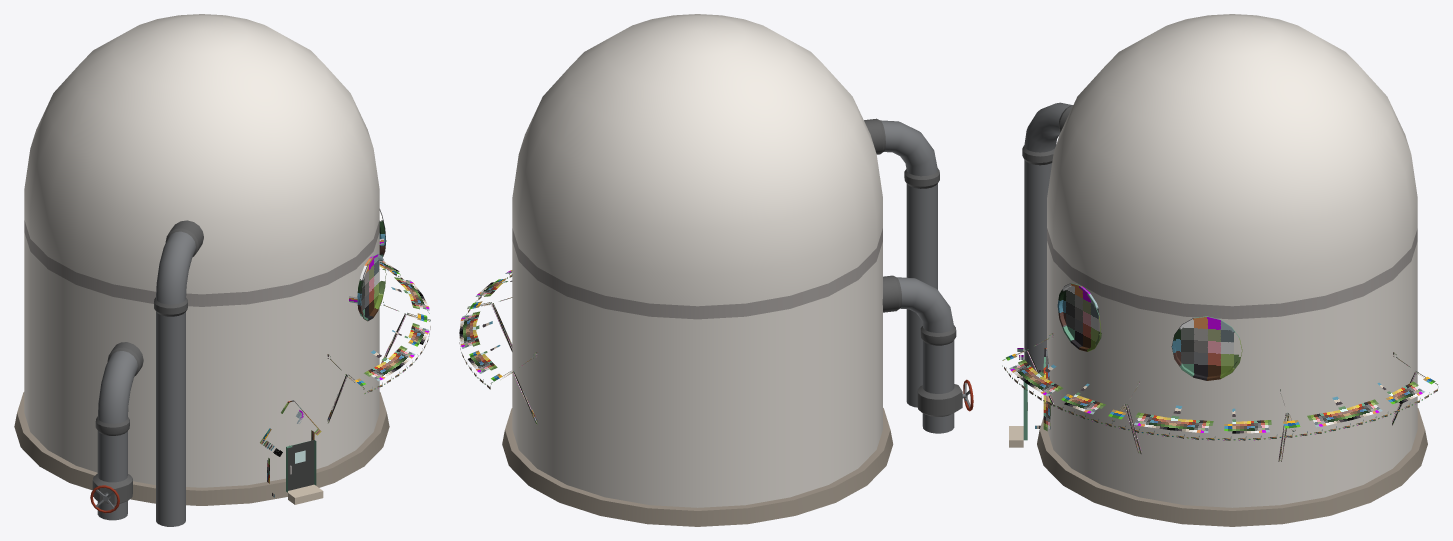
3 renders of one model, left to right at view 1: azimuth 30°, elevation 25°; view 2: azimuth 150°, elevation 25°; view 3: azimuth 270°, elevation 25°, orthographic. The views are drawn at different scales.
Parts seen in each view (by area): view 1: polySurface133; view 2: polySurface133; view 3: polySurface133.
Boxes of the visible parts, x1,y1,x2,y2 form: polySurface133: (14,14,430,526); polySurface133: (459,14,973,526); polySurface133: (1002,14,1438,526).
Bounding box in the file's own units: 2.32 × 2.27 × 2.18.
